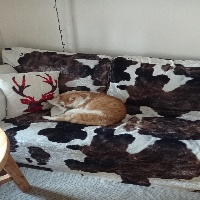asleep: (42, 91, 126, 126)
